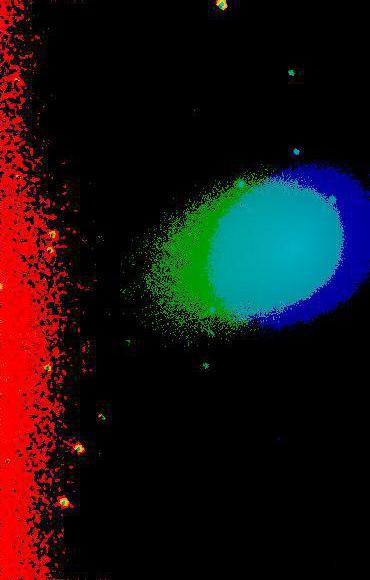star: (128, 109, 158, 139)
